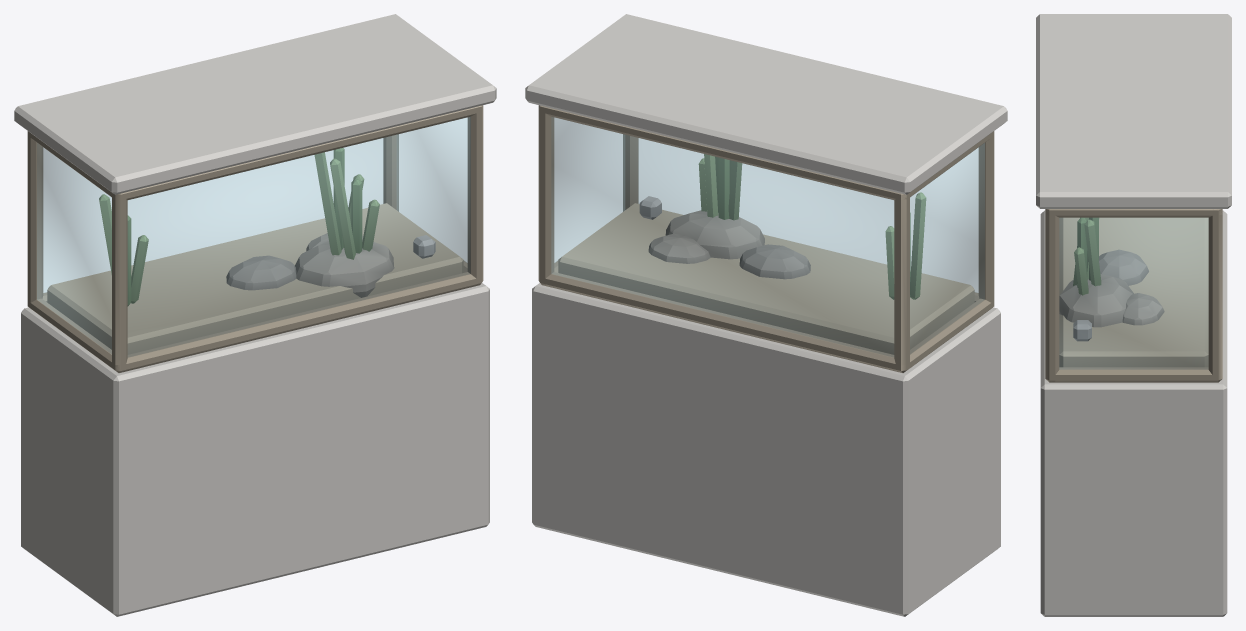
Rendered from furn_fish_tank__white.glb.
The picture shows the model from 3 angles, left to right: view 1: azimuth 30°, elevation 25°; view 2: azimuth 150°, elevation 25°; view 3: azimuth 270°, elevation 25°; orthographic projection. The views are drawn at different scales.
Size of the model in its own units: 0.92 by 1.01 by 0.42.
